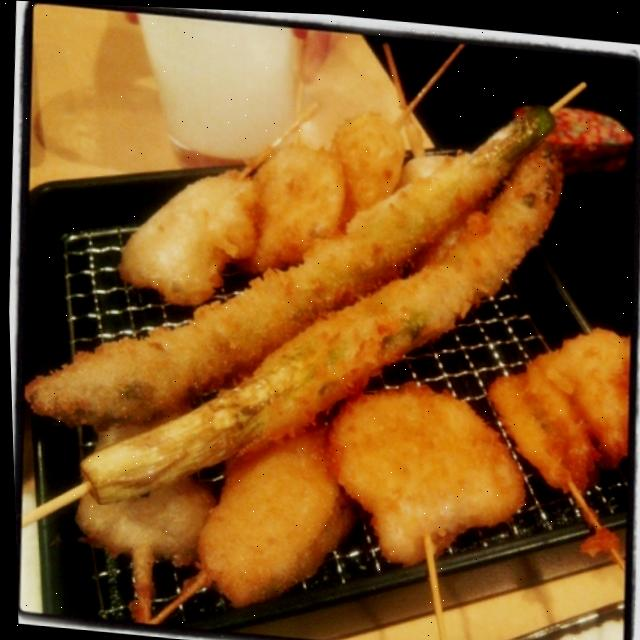米饭主食: (66, 38, 586, 615)
